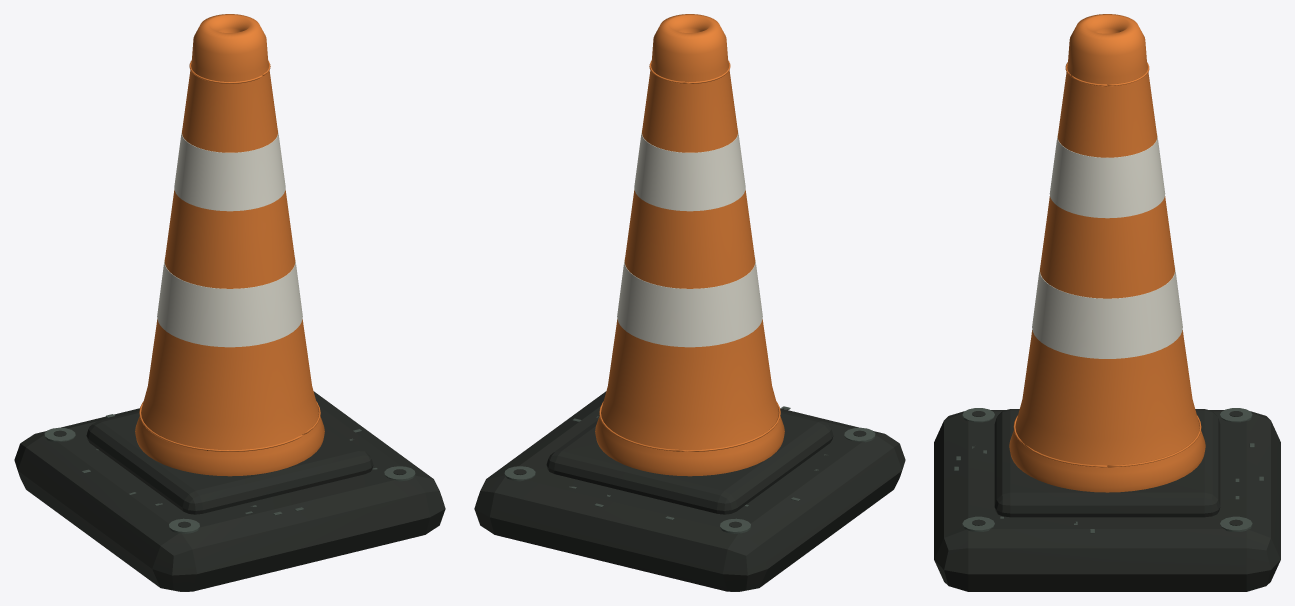
Rendered from activity-pylon.glb.
3 views of the same model, side by side, from view 1: azimuth 30°, elevation 25°; view 2: azimuth 150°, elevation 25°; view 3: azimuth 270°, elevation 25° (orthographic). The views are drawn at different scales.
Visible parts, largest first — view 1: rubber, activity-orange, activity-reflector, activity-steel; view 2: rubber, activity-orange, activity-reflector, activity-steel; view 3: rubber, activity-orange, activity-reflector, activity-steel.
Boxes of the visible parts, <box> form: rubber: <box>14,391,445,591</box>; activity-orange: <box>135,14,324,476</box>; activity-reflector: <box>157,129,302,347</box>; activity-steel: <box>44,414,415,533</box>; rubber: <box>474,391,905,591</box>; activity-orange: <box>595,14,784,476</box>; activity-reflector: <box>617,129,762,347</box>; activity-steel: <box>504,406,875,533</box>; rubber: <box>934,409,1280,591</box>; activity-orange: <box>1009,14,1205,492</box>; activity-reflector: <box>1032,134,1182,358</box>; activity-steel: <box>954,408,1263,533</box>.
Bounding box in the file's own units: 0.66 × 1.07 × 0.66.
